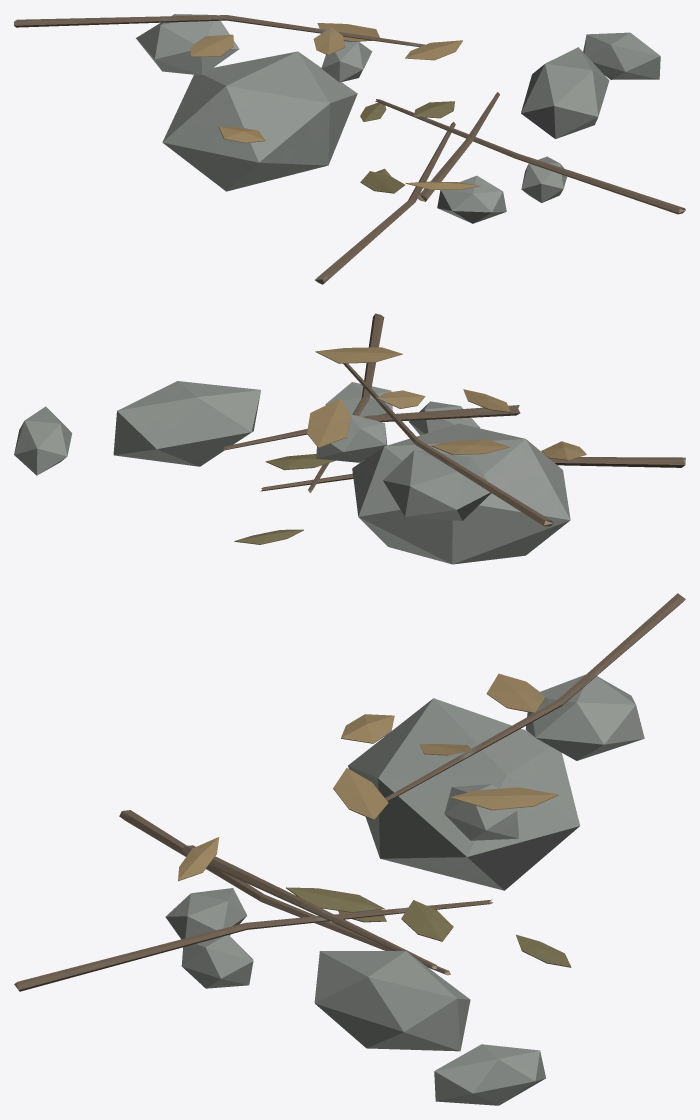
File: forest_small_forest_debris_C.glb
The picture shows the model from 3 angles, top to bottom: view 1: azimuth 30°, elevation 25°; view 2: azimuth 150°, elevation 25°; view 3: azimuth 270°, elevation 25°; orthographic projection. The views are drawn at different scales.
Parts seen in each view (by area): view 1: ForestDebrisC; view 2: ForestDebrisC; view 3: ForestDebrisC.
Boxes of the visible parts, x1,y1,x2,y2 form: ForestDebrisC: (14,14,685,284); ForestDebrisC: (14,313,685,564); ForestDebrisC: (14,593,685,1105).
Size of the model in its own units: 1 by 0.22 by 0.8.
1 material, 1 textured.
